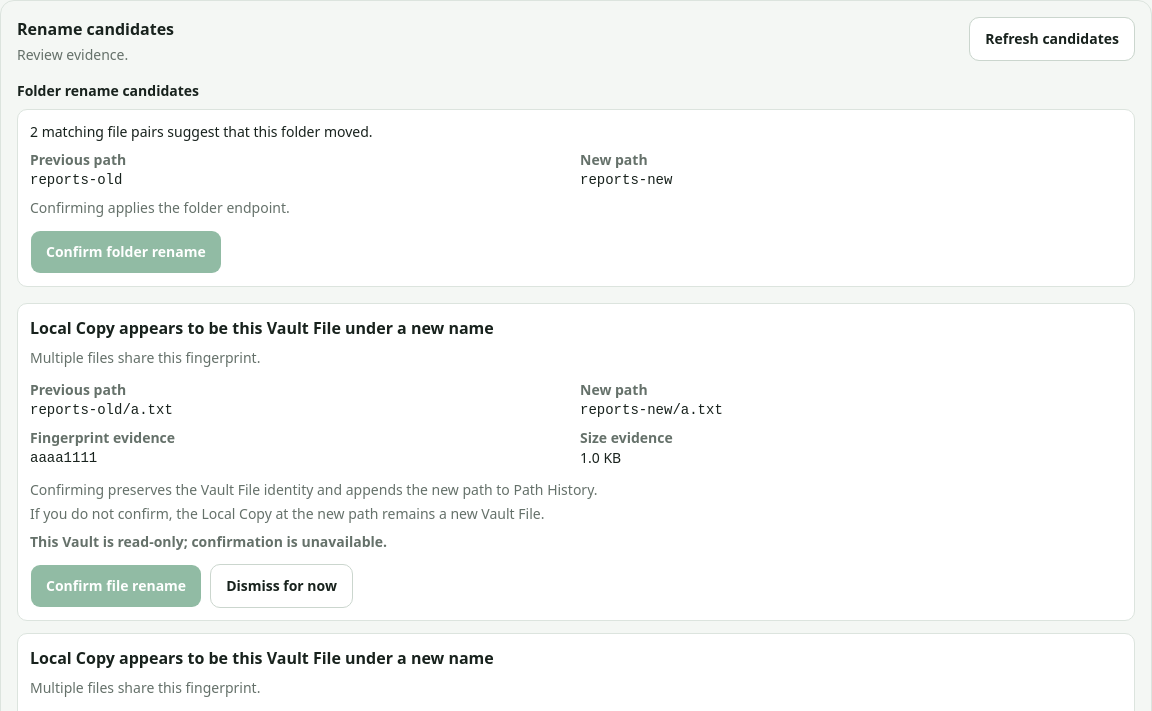
Test case: RenameCandidatesPanel › dismisses only in memory, states the consequence, and preserves read-only access
Expected: the button "Confirm file rename" is disabled, x1=30 y1=564 x2=202 y2=608
Click the button "Dismiss for now": (282, 586) x1=210 y1=564 x2=353 y2=608
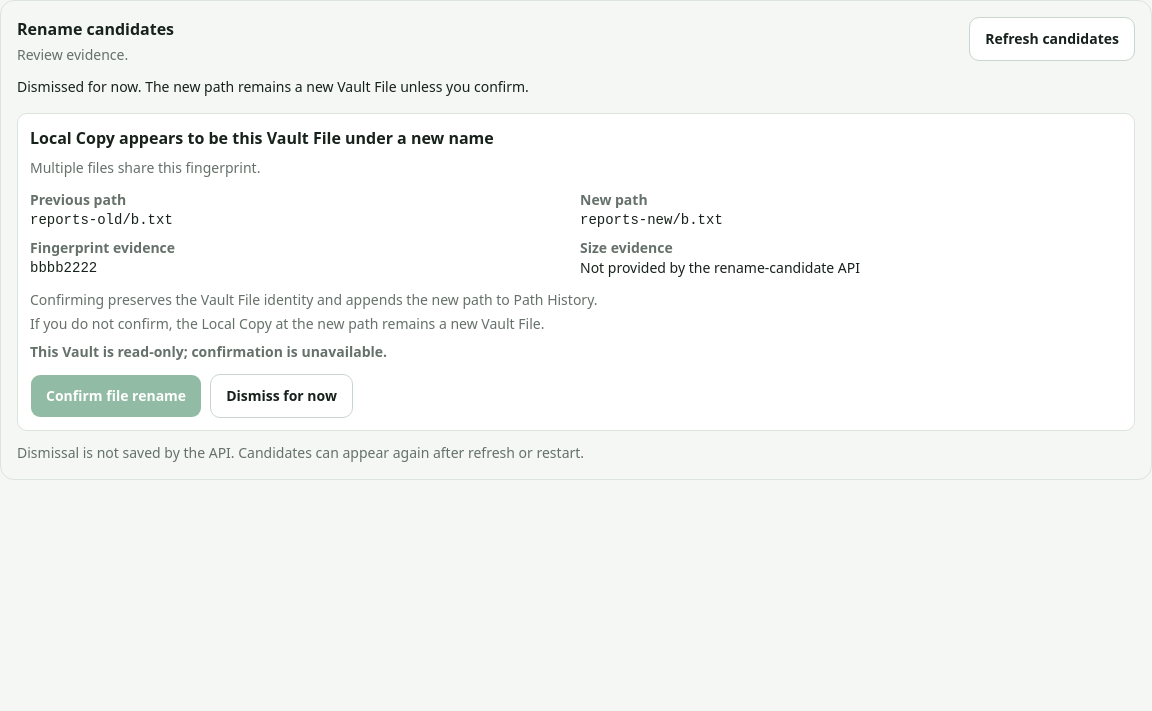
Now the message shows "new path remains a new Vault File", box x1=17 y1=77 x2=529 y2=96
Now the text "Dismissal is not saved by the API" is shown, box x1=17 y1=443 x2=584 y2=462
